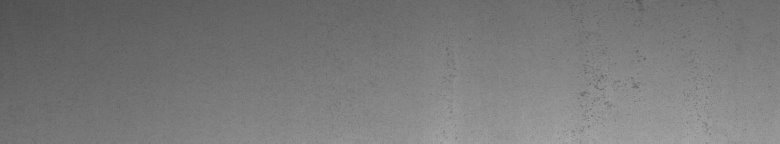ib: (578, 75, 644, 132)
